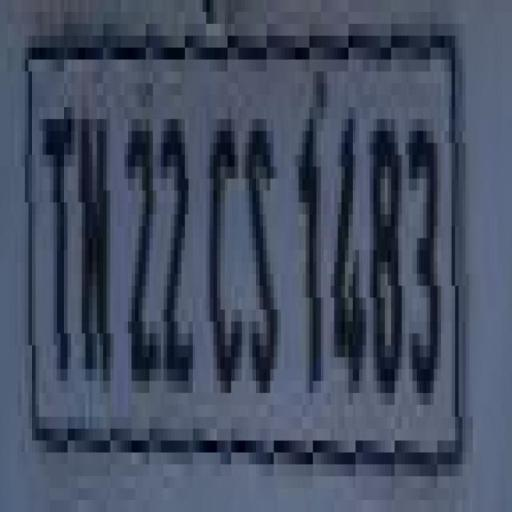number plate: (0, 23, 483, 464)
